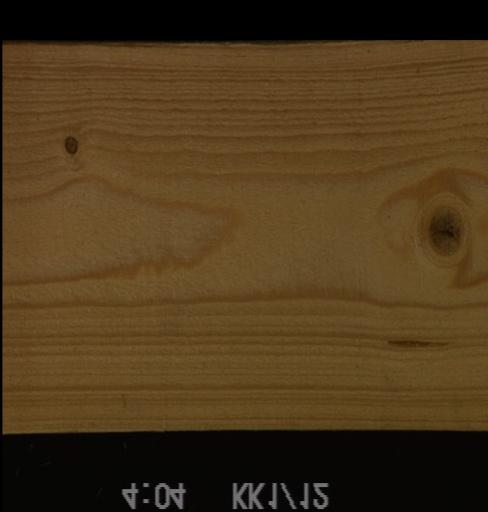dry_knot: (62, 135, 77, 156)
sound_knot: (424, 203, 464, 257)
